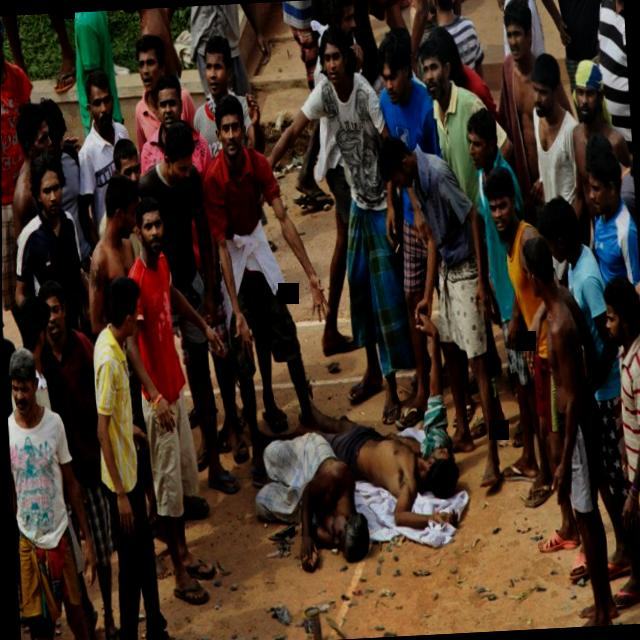Fall-Detected: (315, 382, 473, 554)
